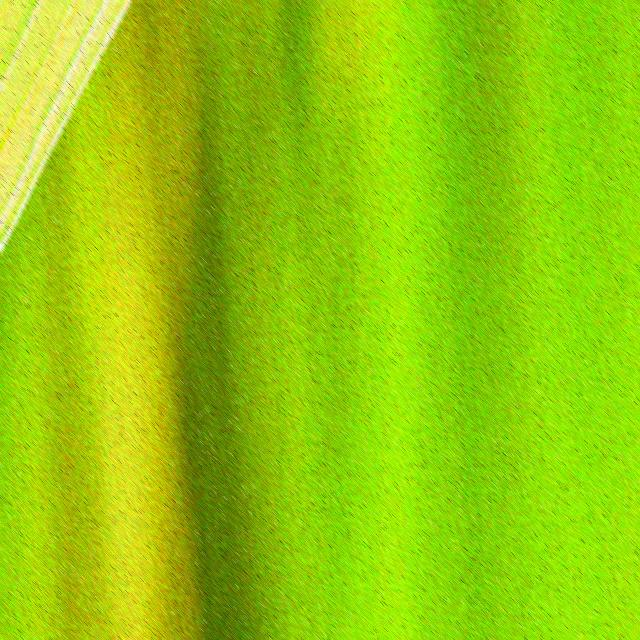BLS: (1, 0, 81, 171)
